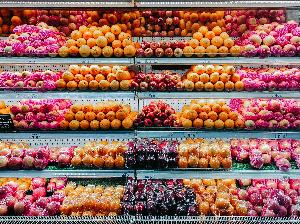apple: (122, 176, 193, 216), (0, 176, 64, 218), (236, 20, 300, 56), (232, 138, 300, 170), (244, 178, 300, 216), (1, 24, 60, 57), (126, 136, 178, 168), (9, 141, 71, 167), (229, 10, 291, 36), (10, 101, 68, 127), (1, 12, 76, 32), (244, 64, 300, 90), (248, 99, 300, 127), (132, 66, 186, 90), (0, 68, 54, 92), (138, 33, 186, 57), (134, 104, 180, 128), (147, 10, 179, 32)
orange: (68, 15, 142, 57), (184, 8, 240, 56), (62, 98, 134, 128), (188, 178, 242, 218), (63, 180, 120, 214), (57, 65, 131, 89), (182, 100, 241, 127), (73, 139, 125, 169), (187, 65, 243, 91), (180, 140, 232, 168)
